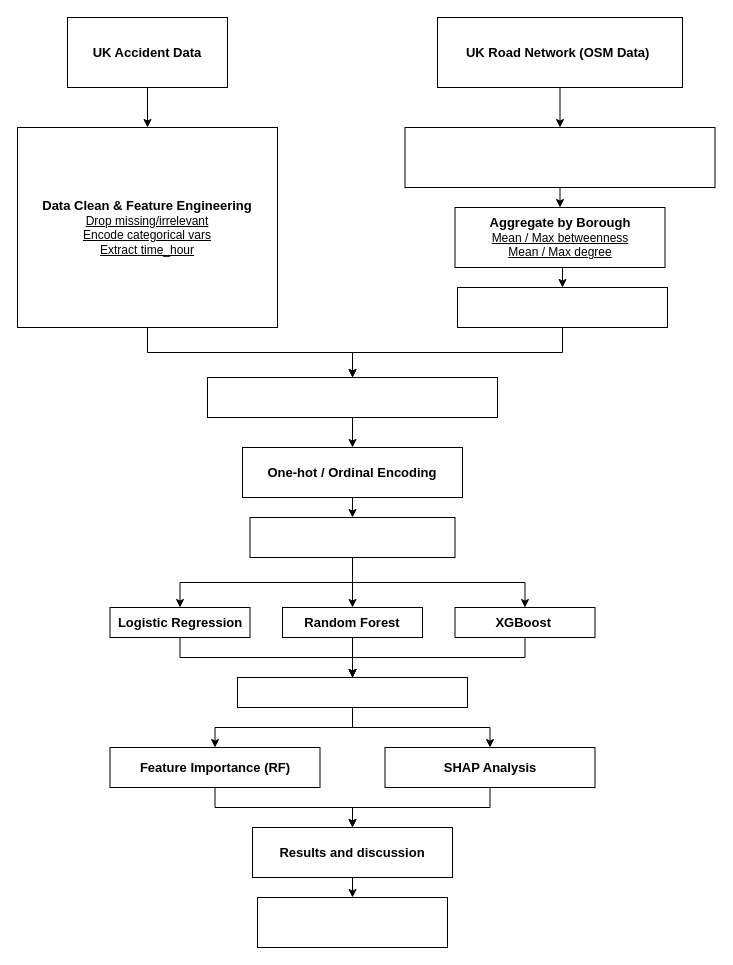
The diagram is 733 pixels wide and 965 high, and some of its shapes have lost their labels. Each missing label, with the centre of its shape:
Borough Centrality Features: point 562,307
Compute Road Centrality Metrics (per node) Betweenness & Degree: point 559,157
Conclusion: point 352,922
Evaluation & Comparison: point 352,692
Merge Accident Data with Borough Metrics: point 352,397
Train-Test Split (by year): point 352,537
